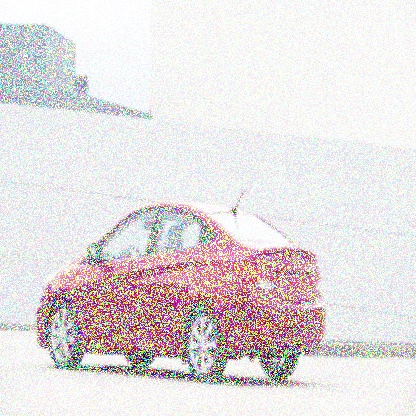Vehicle: (34, 186, 328, 394)
